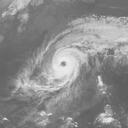cyclone: (51, 47, 84, 81)
